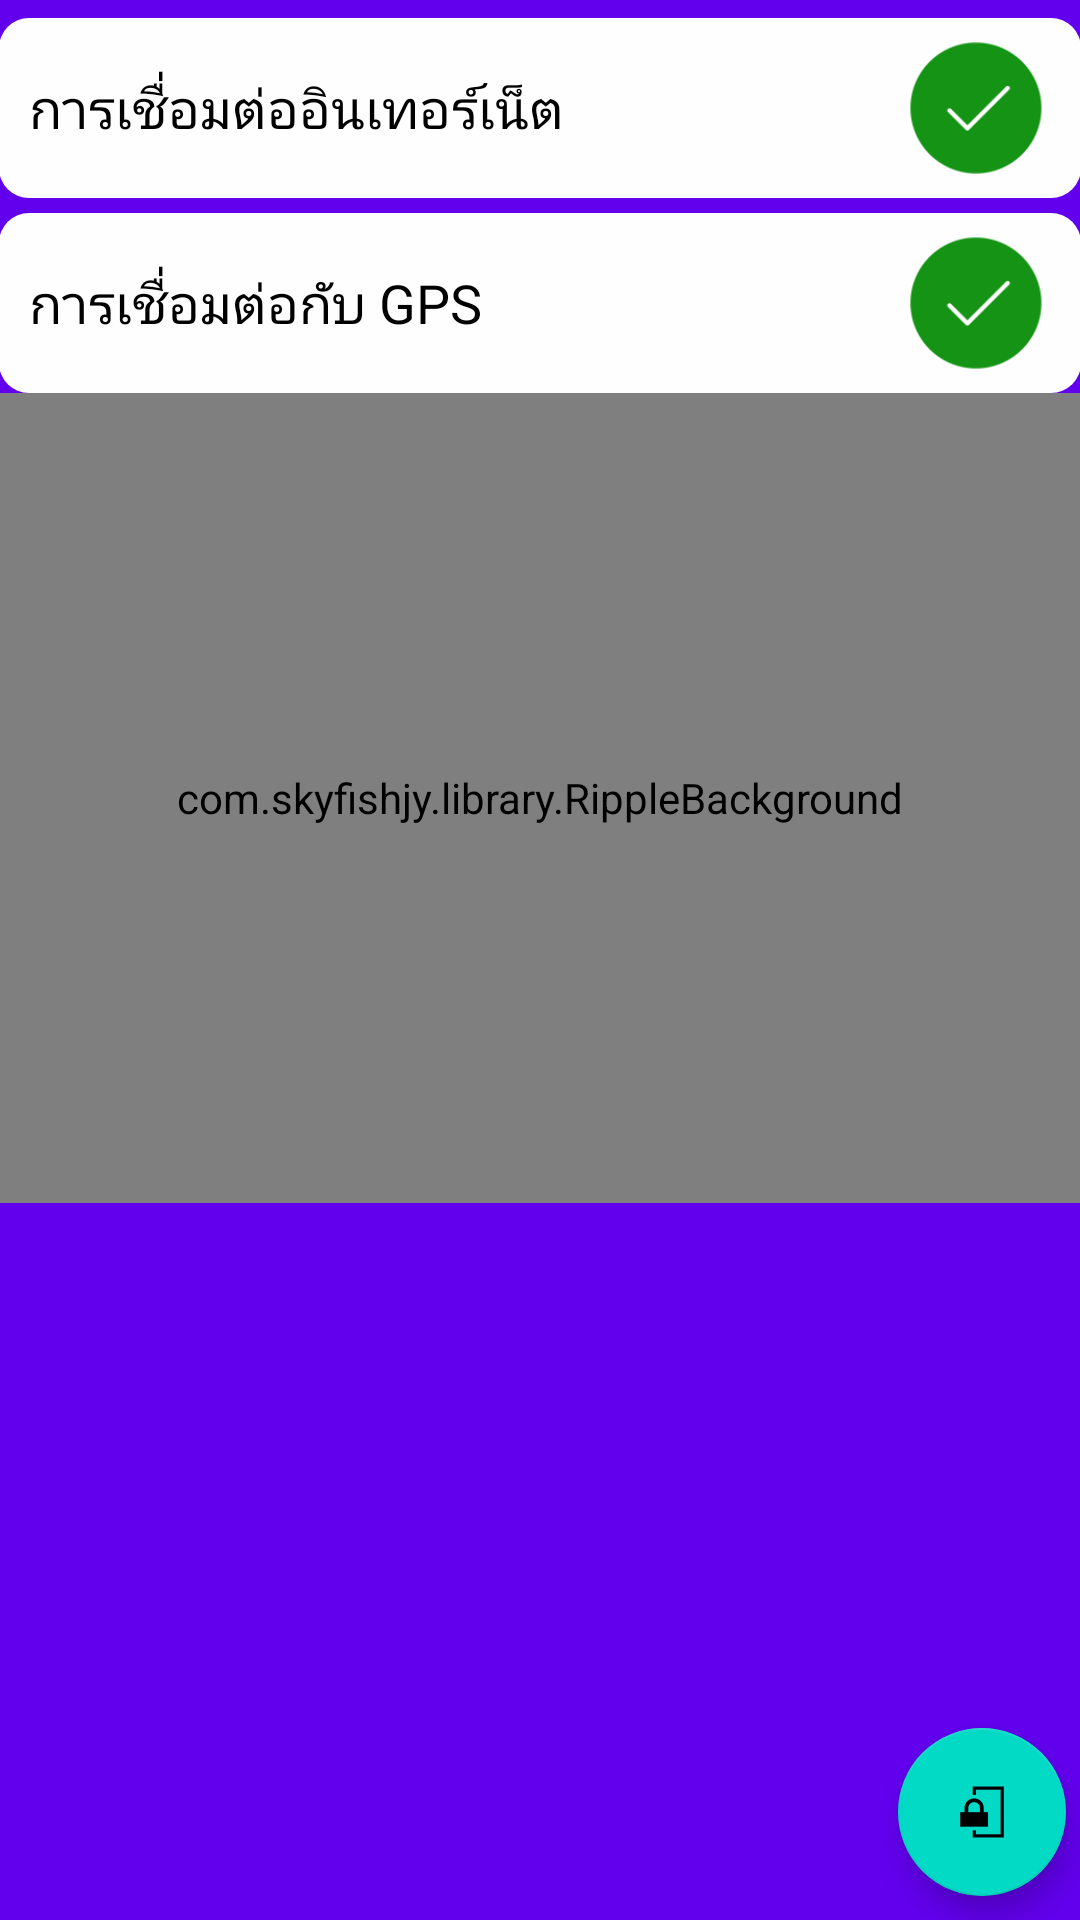

Icons on this 1080×1920 Android screen, each with the point to tap as [x,y]:
check: [976,108], [976,303]
